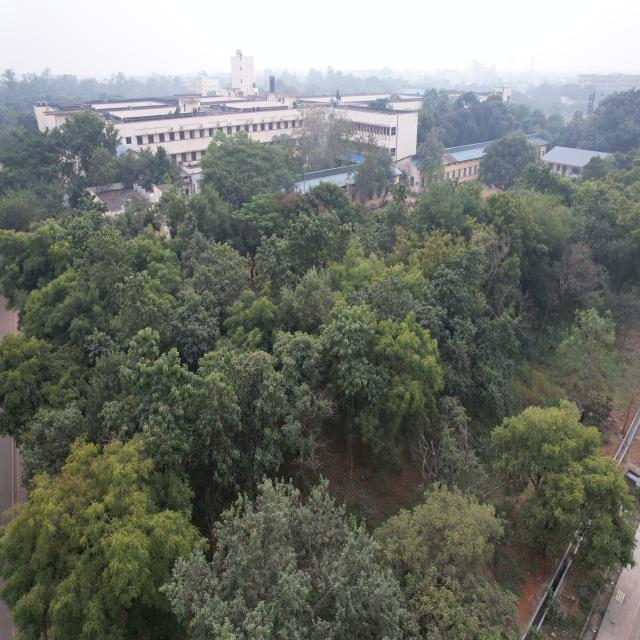Devakanchan tree: (197, 506, 355, 640), (180, 372, 278, 456), (446, 266, 499, 415), (178, 240, 245, 344)
Neem Tree: (25, 459, 158, 631), (3, 222, 75, 332), (380, 330, 431, 424), (343, 250, 430, 290), (486, 191, 533, 250)
